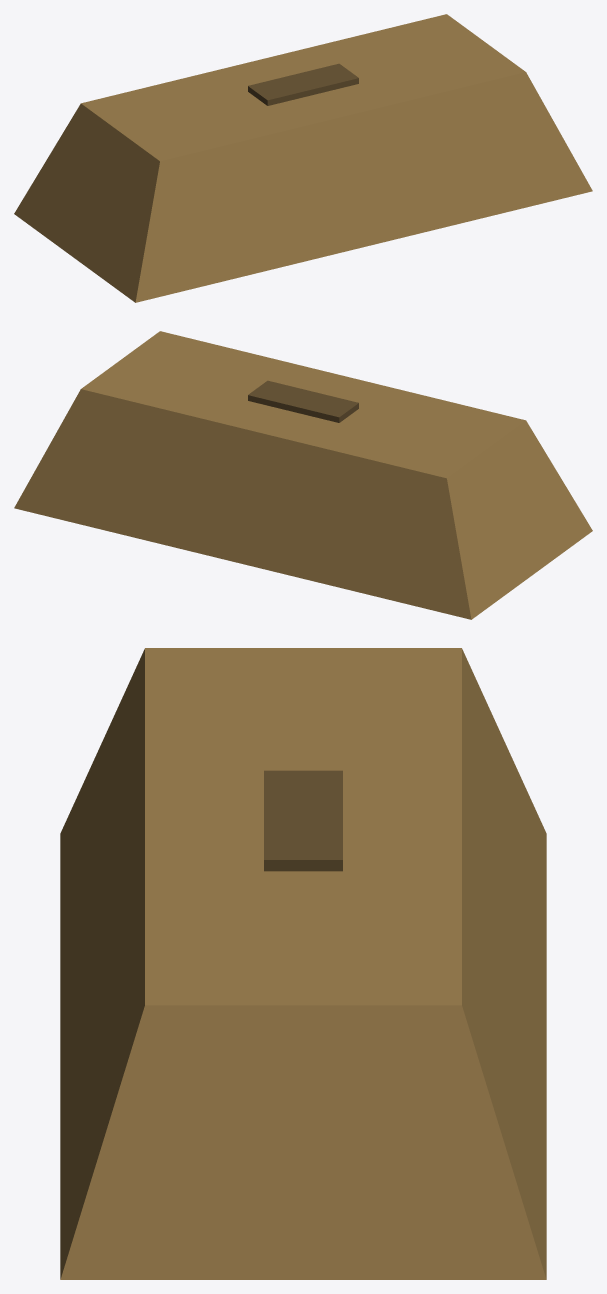
File: bronzeBar.glb
3 views of the same model, one above another, from view 1: azimuth 30°, elevation 25°; view 2: azimuth 150°, elevation 25°; view 3: azimuth 270°, elevation 25° (orthographic). The views are drawn at different scales.
Parts seen in each view (by area): view 1: bronzeBar; view 2: bronzeBar; view 3: bronzeBar.
Boxes of the visible parts, x1,y1,x2,y2 form: bronzeBar: [14, 14, 592, 302]; bronzeBar: [14, 331, 592, 619]; bronzeBar: [60, 648, 546, 1279].
Size of the model in its own units: 1 by 0.252 by 0.46.
